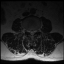CCS_normal: (31, 28, 33, 37)
LFS_normal: (35, 27, 37, 34)
LLS_normal: (33, 28, 35, 35)
RFS_normal: (26, 27, 29, 34)
RLS_normal: (29, 28, 31, 35)
